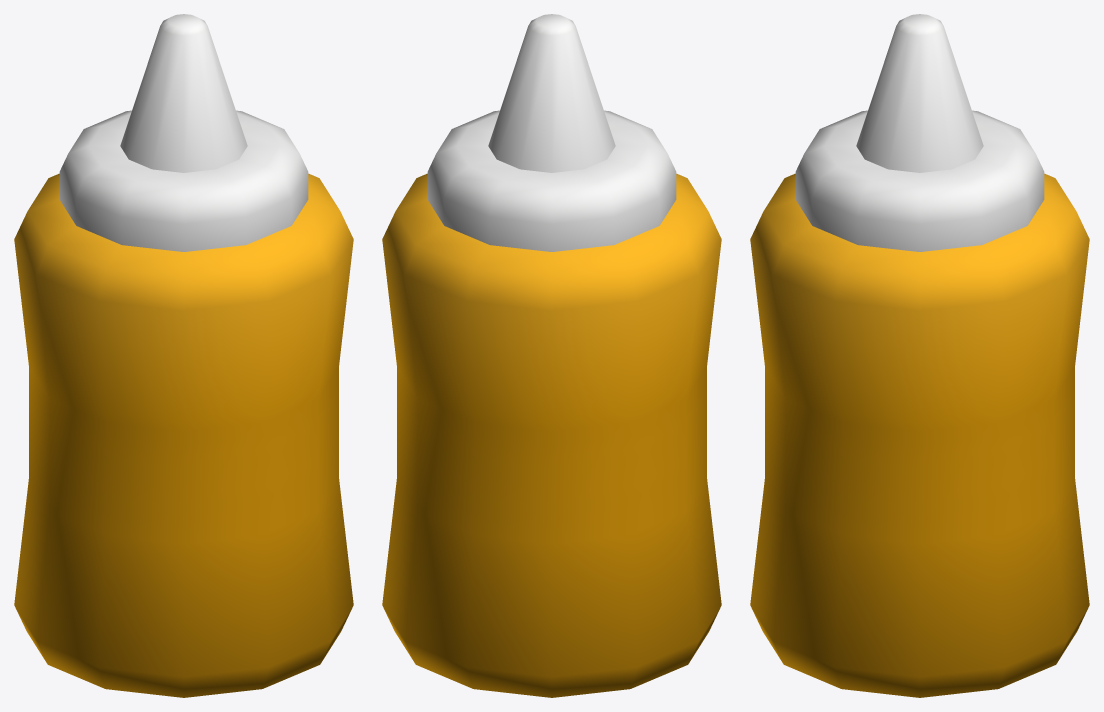
File: Condiment_Mustard_01.fbx
3 renders of one model, left to right at view 1: azimuth 30°, elevation 25°; view 2: azimuth 150°, elevation 25°; view 3: azimuth 270°, elevation 25°, orthographic.
Parts seen in each view (by area): view 1: Condiment_Mustard_01; view 2: Condiment_Mustard_01; view 3: Condiment_Mustard_01.
Boxes of the visible parts, x1,y1,x2,y2 form: Condiment_Mustard_01: (14,14,353,697); Condiment_Mustard_01: (382,14,721,697); Condiment_Mustard_01: (750,14,1089,697).
Bounding box in the file's own units: 23.99 × 48.46 × 23.99.
